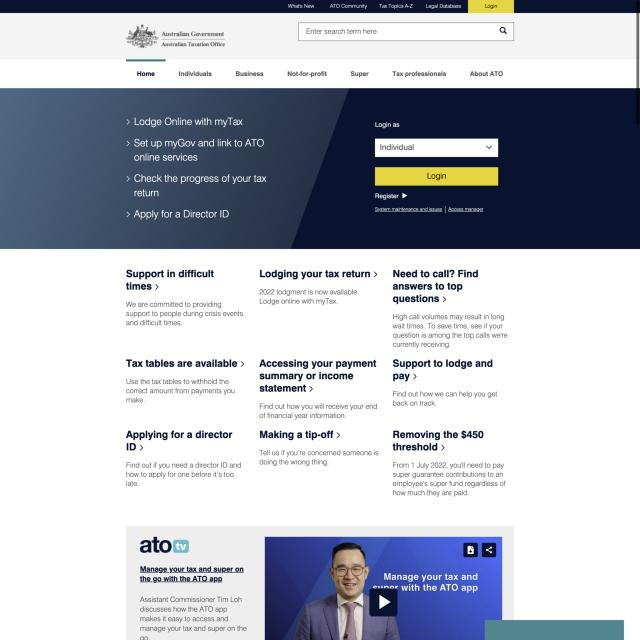input: (298, 22, 514, 42)
logo: (124, 20, 228, 52)
navigation: (123, 114, 273, 225), (135, 69, 507, 78), (286, 2, 465, 11)
video: (264, 536, 502, 640)
